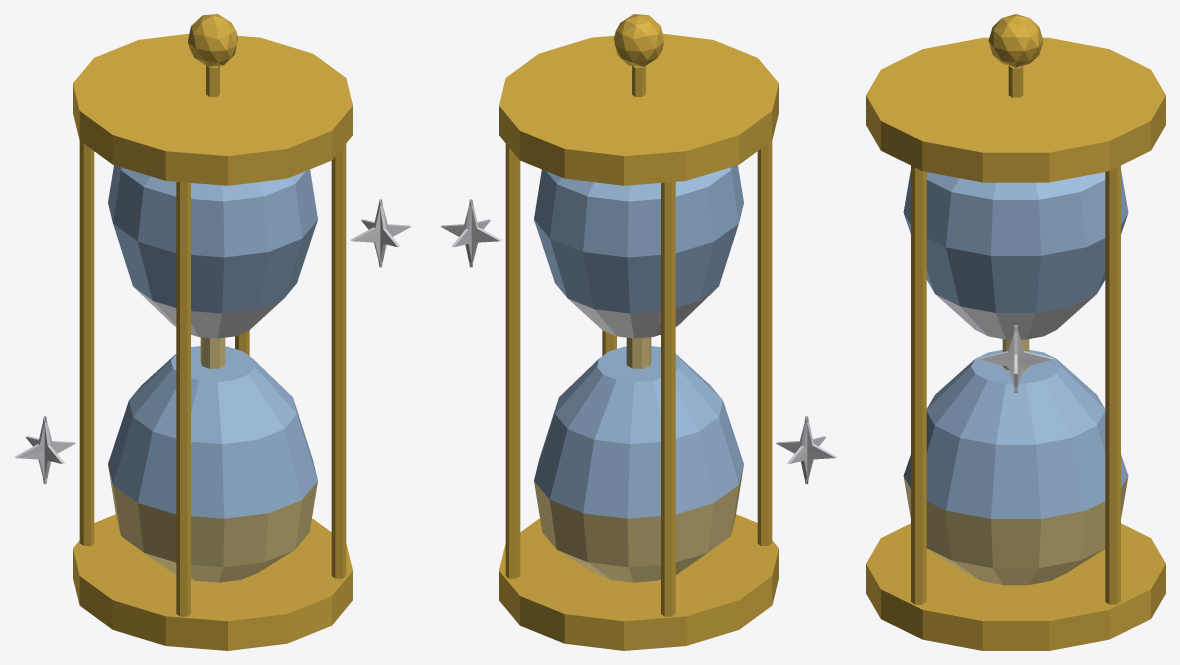
The model's file is Decor_ClockTower_Hourglass.fbx.
3 views of the same model, side by side, from view 1: azimuth 30°, elevation 25°; view 2: azimuth 150°, elevation 25°; view 3: azimuth 270°, elevation 25° (orthographic).
Visible parts, largest first — view 1: Hourglass_Body; view 2: Hourglass_Body; view 3: Hourglass_Body.
Boxes of the visible parts, <box> form: Hourglass_Body: <box>15,14,411,650</box>; Hourglass_Body: <box>440,14,836,650</box>; Hourglass_Body: <box>866,14,1165,650</box>.
Size of the model in its own units: 18.4 by 25.5 by 12.
